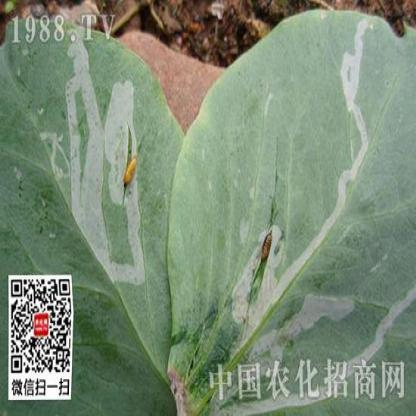whorl-maggot: (121, 153, 141, 193), (260, 230, 274, 266)
